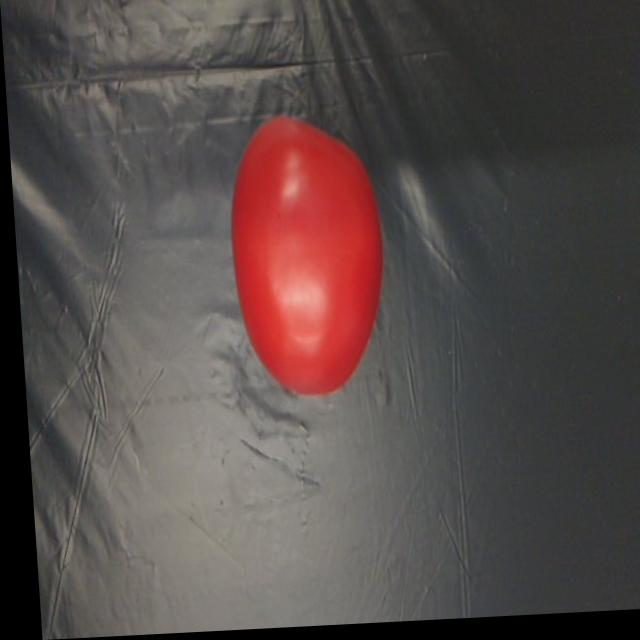kirmizi: (225, 98, 412, 412)
